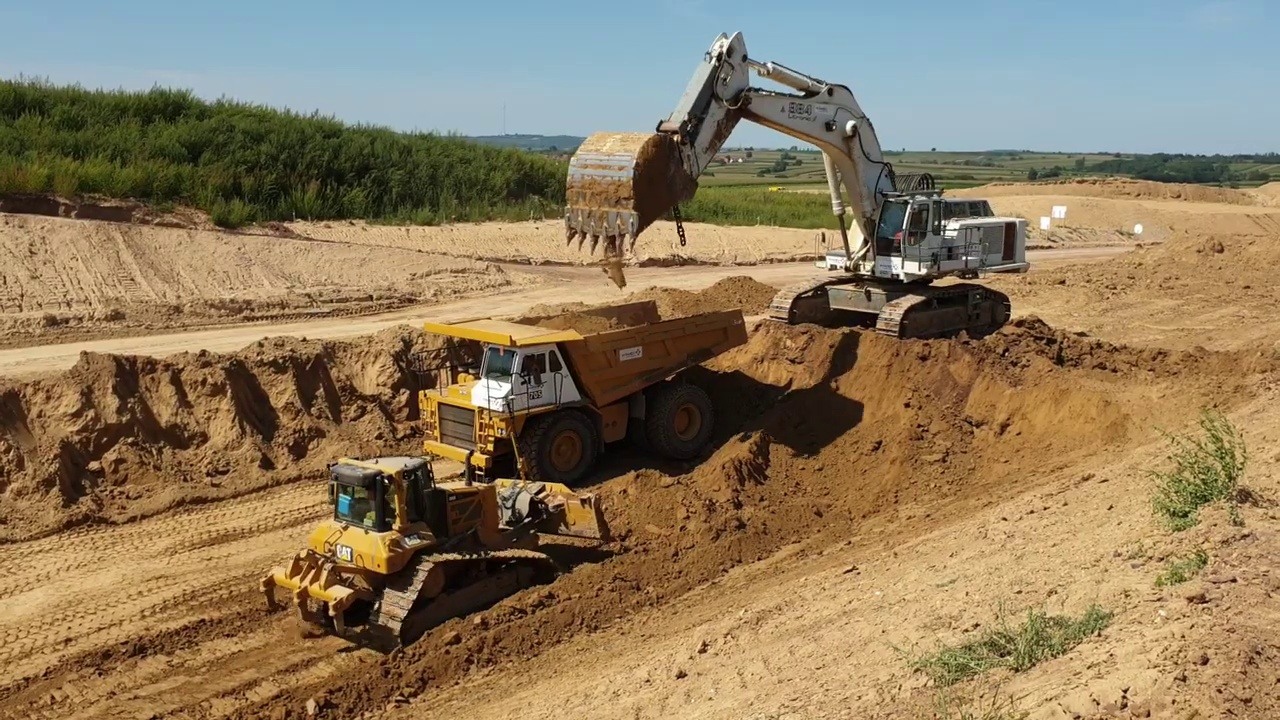bulldozer: (259, 393, 621, 658)
excavator: (560, 23, 1033, 345)
truck: (408, 295, 752, 493)
